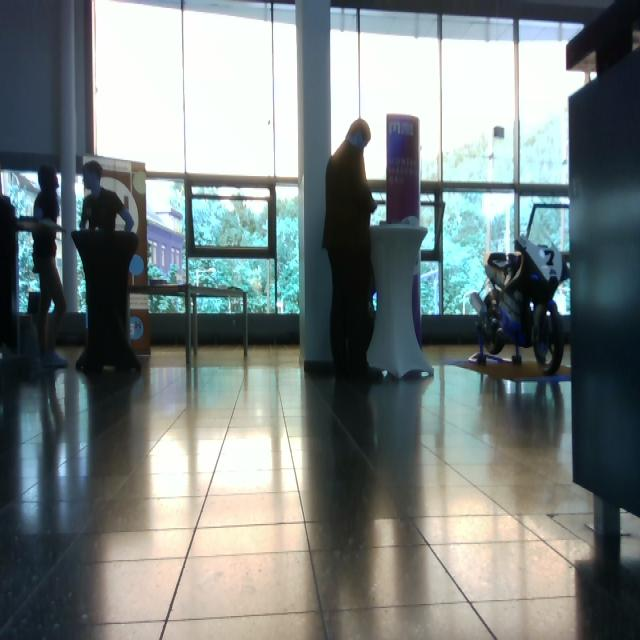light bulb: (346, 118, 372, 149), (129, 253, 145, 277)
motorcycle: (470, 202, 571, 377)
person: (322, 119, 385, 383), (76, 161, 141, 373)
pillar: (295, 1, 333, 370)
table: (365, 220, 437, 385)
tiled floor: (2, 341, 638, 638)
